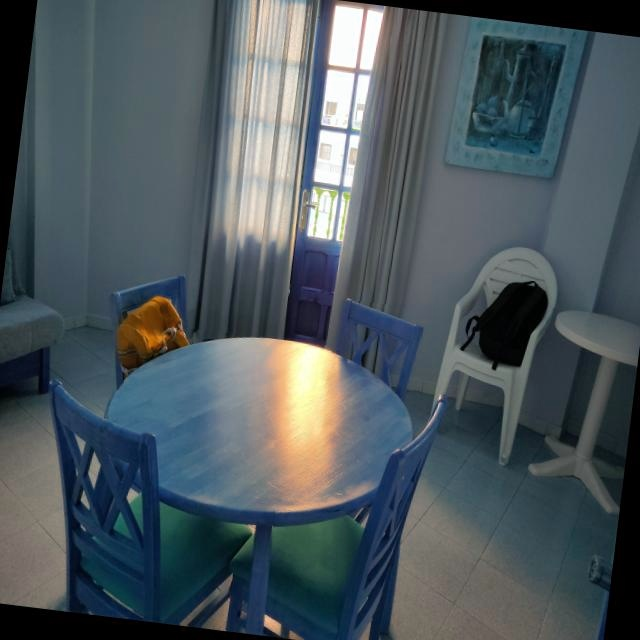chair: (48, 379, 254, 627), (264, 396, 447, 640), (432, 247, 558, 467), (332, 300, 422, 393), (109, 275, 186, 327), (226, 531, 255, 632), (115, 339, 123, 390)
sink: (0, 247, 64, 394)
stove: (106, 338, 414, 635), (528, 311, 640, 516)
